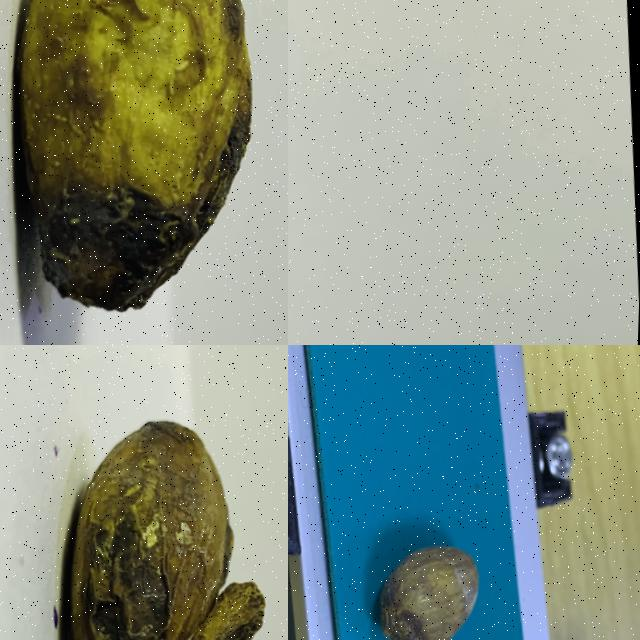Agglomerated_cocoabeans: (0, 0, 287, 344), (0, 345, 287, 639)
Fine_cocoabeans: (319, 433, 522, 639)
